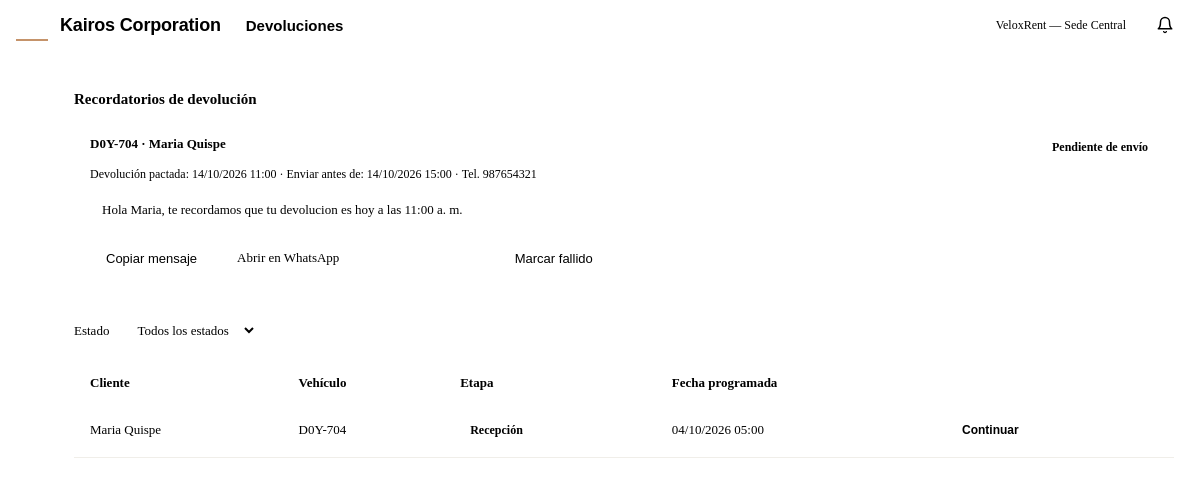
ReturnsListScreen (DEV-01) - recordatorios y alertas › copia el mensaje al portapapeles
Click the button "Copiar mensaje" at (152, 258), box x1=90 y1=242 x2=213 y2=274
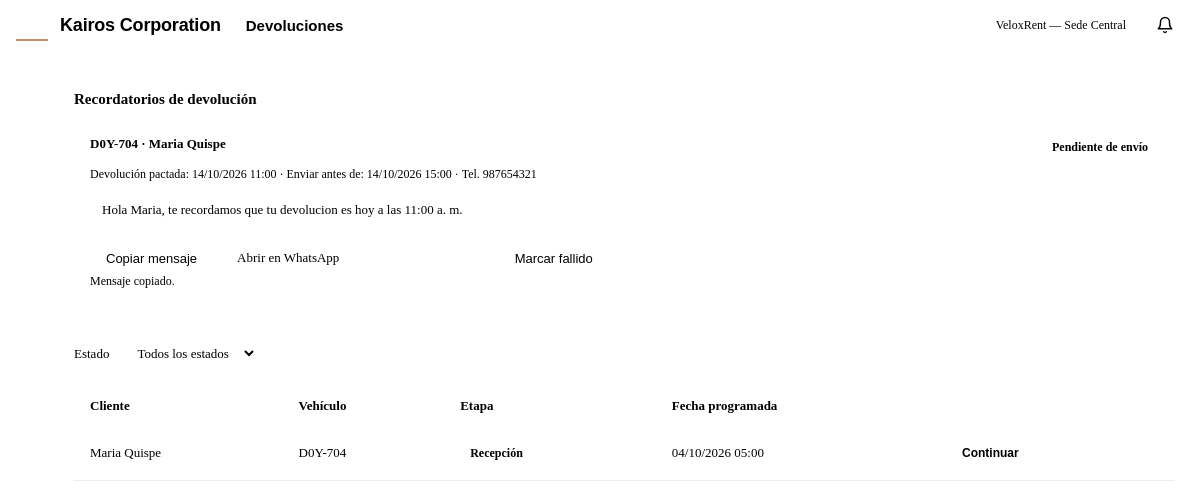
Check: the text "Mensaje copiado." is shown, box x1=90 y1=274 x2=175 y2=288
